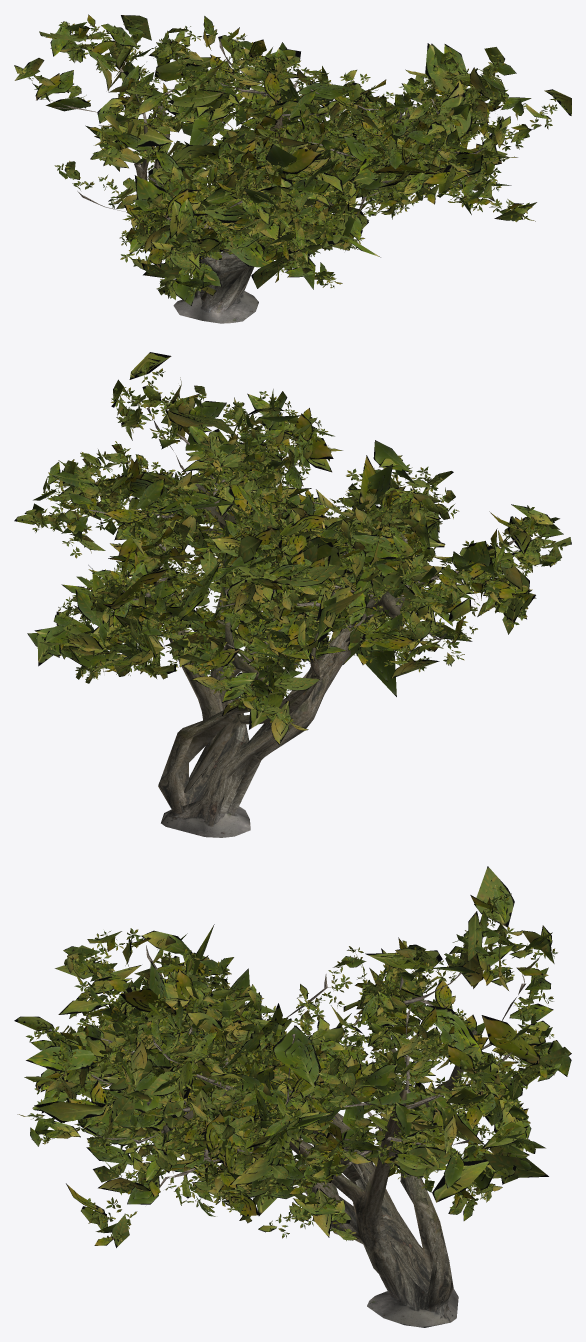
The model's file is original-canopy-lod-1k.glb.
The picture shows the model from 3 angles, top to bottom: view 1: azimuth 30°, elevation 25°; view 2: azimuth 150°, elevation 25°; view 3: azimuth 270°, elevation 25°; orthographic projection. The views are drawn at different scales.
Parts seen in each view (by area): view 1: canopy_original_mid, canopy_original_far, canopy_original_near, canopy_original_distant; view 2: canopy_original_mid, canopy_original_near, canopy_original_far, canopy_original_distant; view 3: canopy_original_mid, canopy_original_near, canopy_original_far, canopy_original_distant.
Part boxes in pixels (bbox=[...]): canopy_original_mid: bbox=[17, 14, 565, 311]; canopy_original_far: bbox=[14, 19, 567, 310]; canopy_original_near: bbox=[21, 22, 562, 323]; canopy_original_distant: bbox=[39, 15, 571, 312]; canopy_original_mid: bbox=[21, 361, 564, 825]; canopy_original_near: bbox=[28, 365, 566, 837]; canopy_original_far: bbox=[14, 358, 571, 809]; canopy_original_distant: bbox=[34, 352, 532, 819]; canopy_original_mid: bbox=[17, 888, 561, 1317]; canopy_original_near: bbox=[26, 886, 565, 1327]; canopy_original_far: bbox=[14, 880, 571, 1278]; canopy_original_distant: bbox=[24, 866, 548, 1306].
Size of the model in its own units: 5.62 by 3.84 by 5.53.
3 materials, 3 textured.
